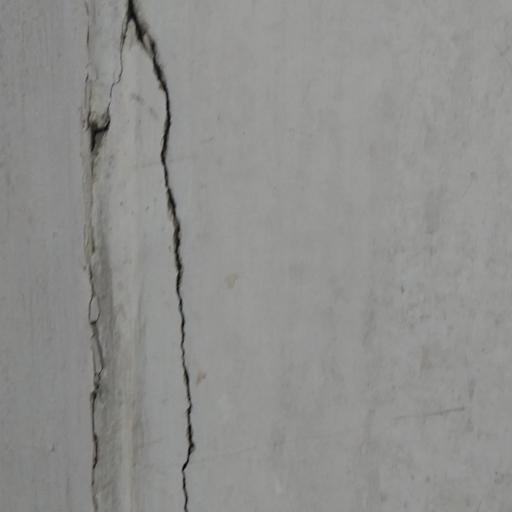major_crack: (74, 0, 204, 512)
